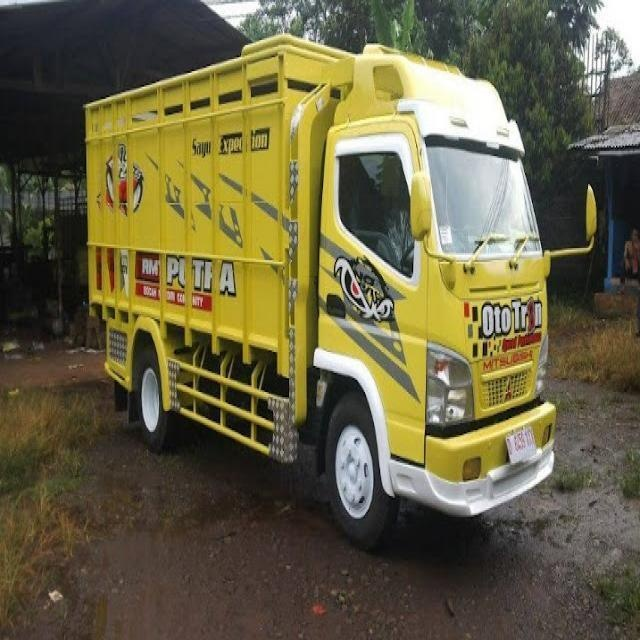Truck: (85, 35, 596, 543)
